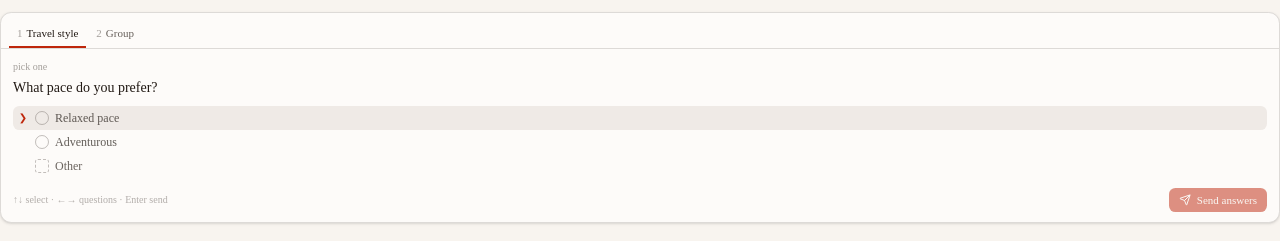
Test: ClarifyCard (U7) › Send disabled until every question answered
Expected: the button "Send answers" is disabled, [1169,188,1267,212]
Click the text "Relaxed pace" at (87,118), box [55,110,119,124]
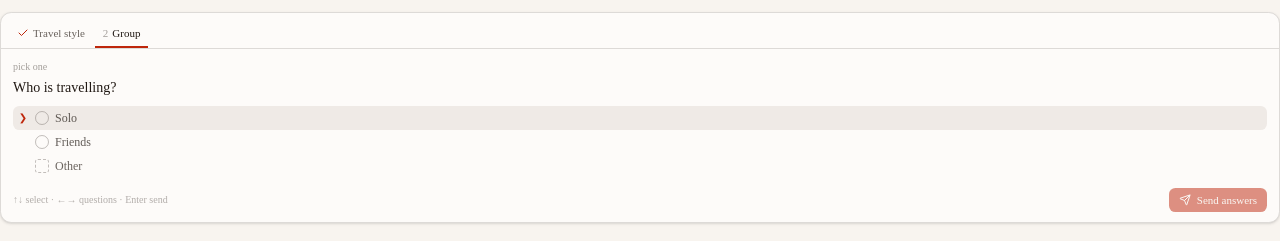
Expected: the button "Send answers" is disabled, [1169,188,1267,212]
Click the text "Solo" at (66,118), box [55,110,77,124]
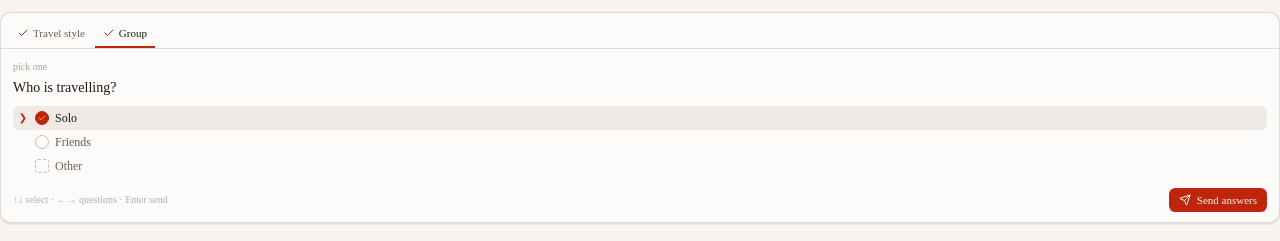
Result: the button "Send answers" is enabled at [1169,188,1267,212]
